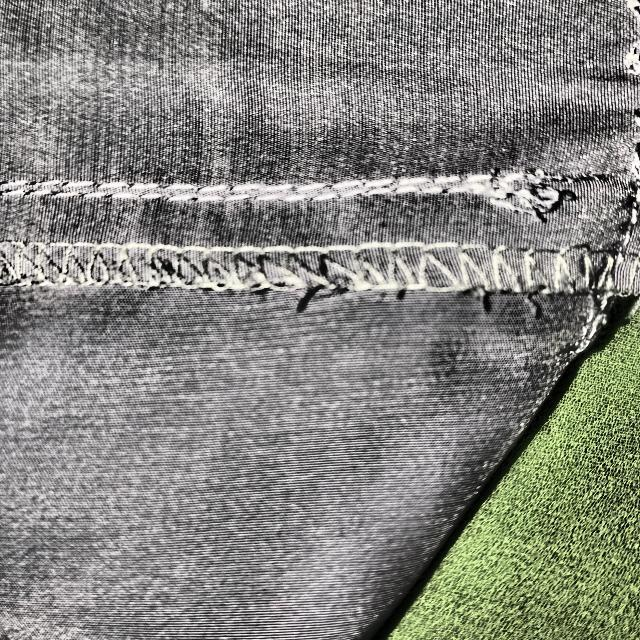gray stitch: (456, 139, 640, 240)
